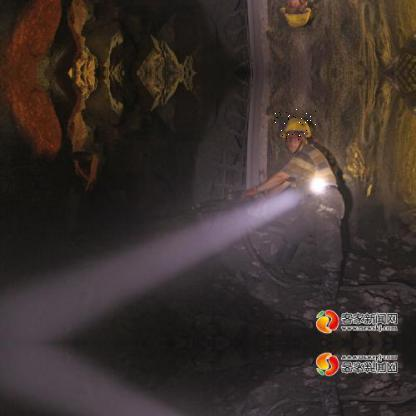safetyhelmet: (274, 110, 317, 141)
